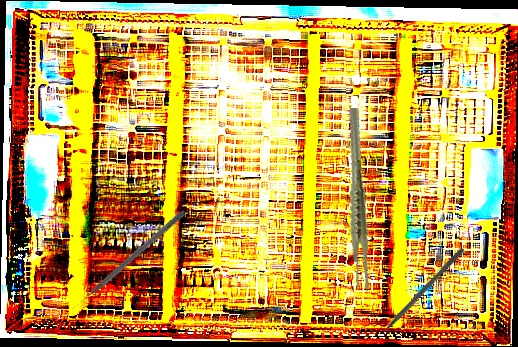Pusher: (68, 207, 188, 313), (369, 245, 466, 346)
Tissue Forceps: (323, 107, 394, 291)
